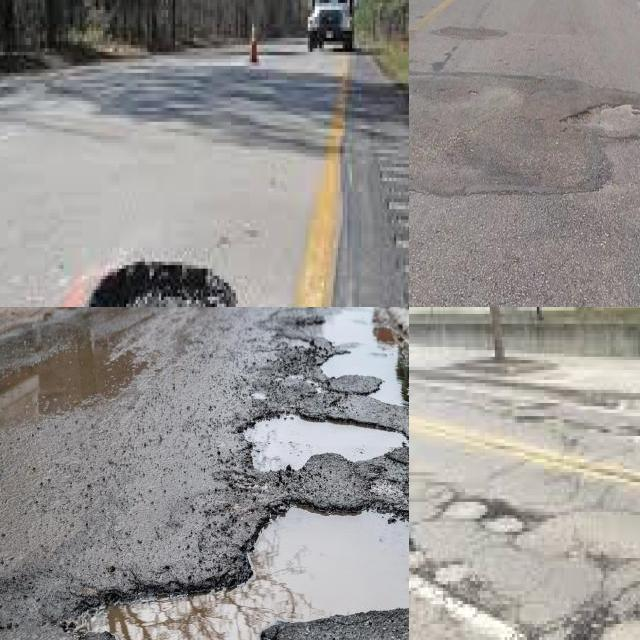Pothole: (63, 499, 409, 640), (301, 307, 409, 405), (239, 411, 409, 472), (88, 262, 237, 307), (561, 98, 640, 136)
